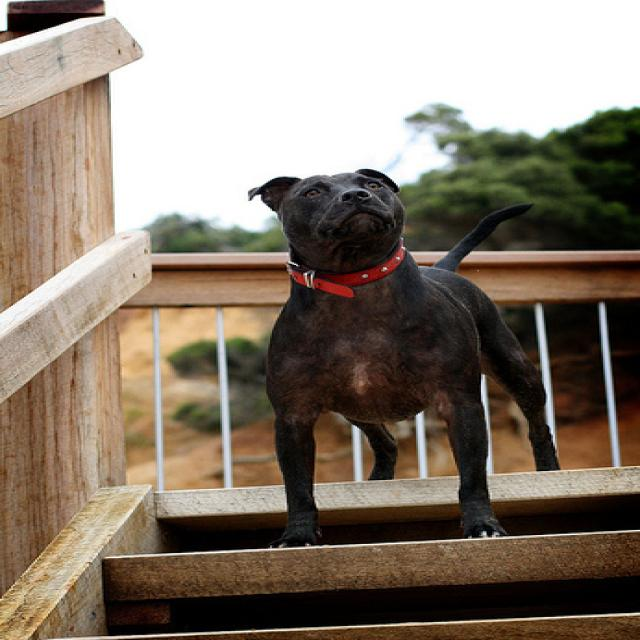dog-staffordshire_bull_terrier: (239, 163, 572, 557)
